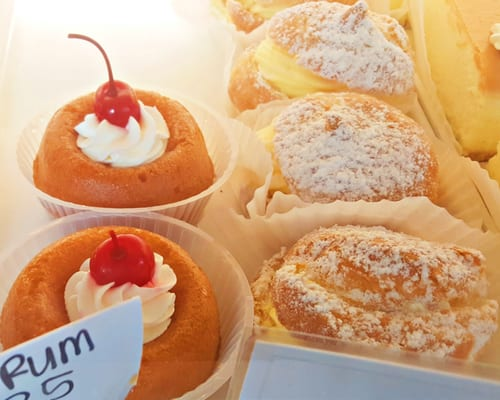sushi: (23, 78, 243, 226)
